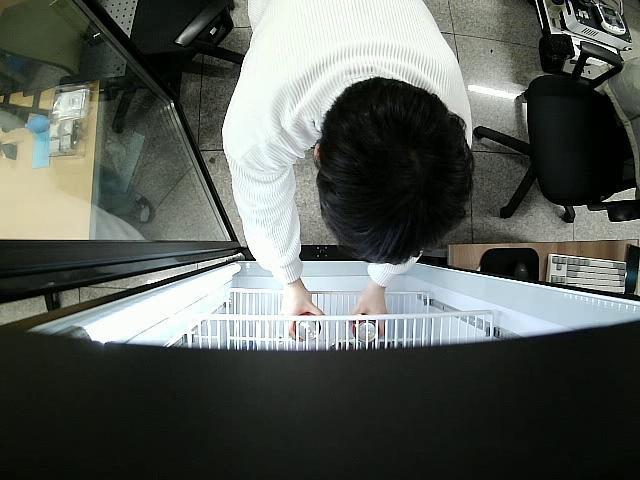11_cocaColaZero: (292, 310, 323, 343), (350, 314, 380, 345)
